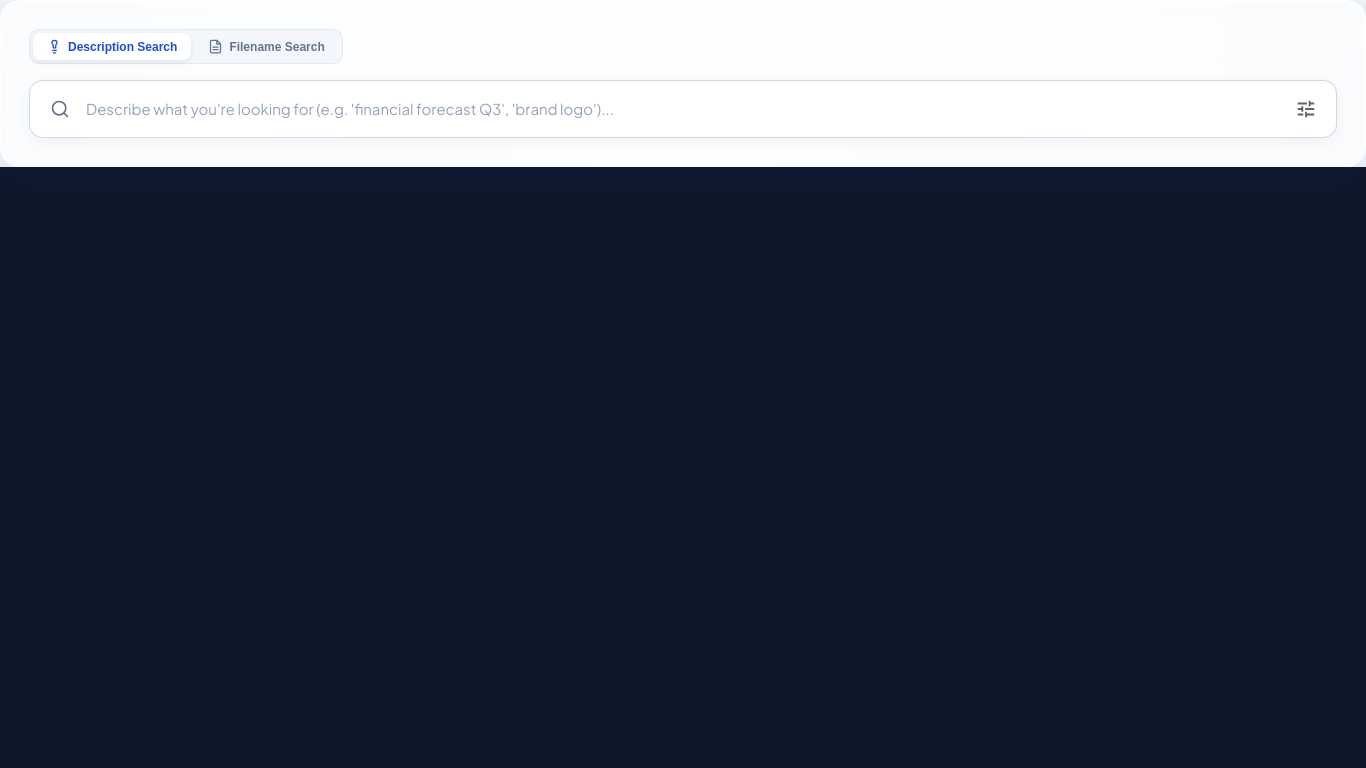
Scenario: renders provider dropdown with Google Drive style select and options
The width and height of the screenshot is (1366, 768).
Click the button named "Tag filters" at (1306, 109), box left=1286, top=89, right=1326, bottom=129
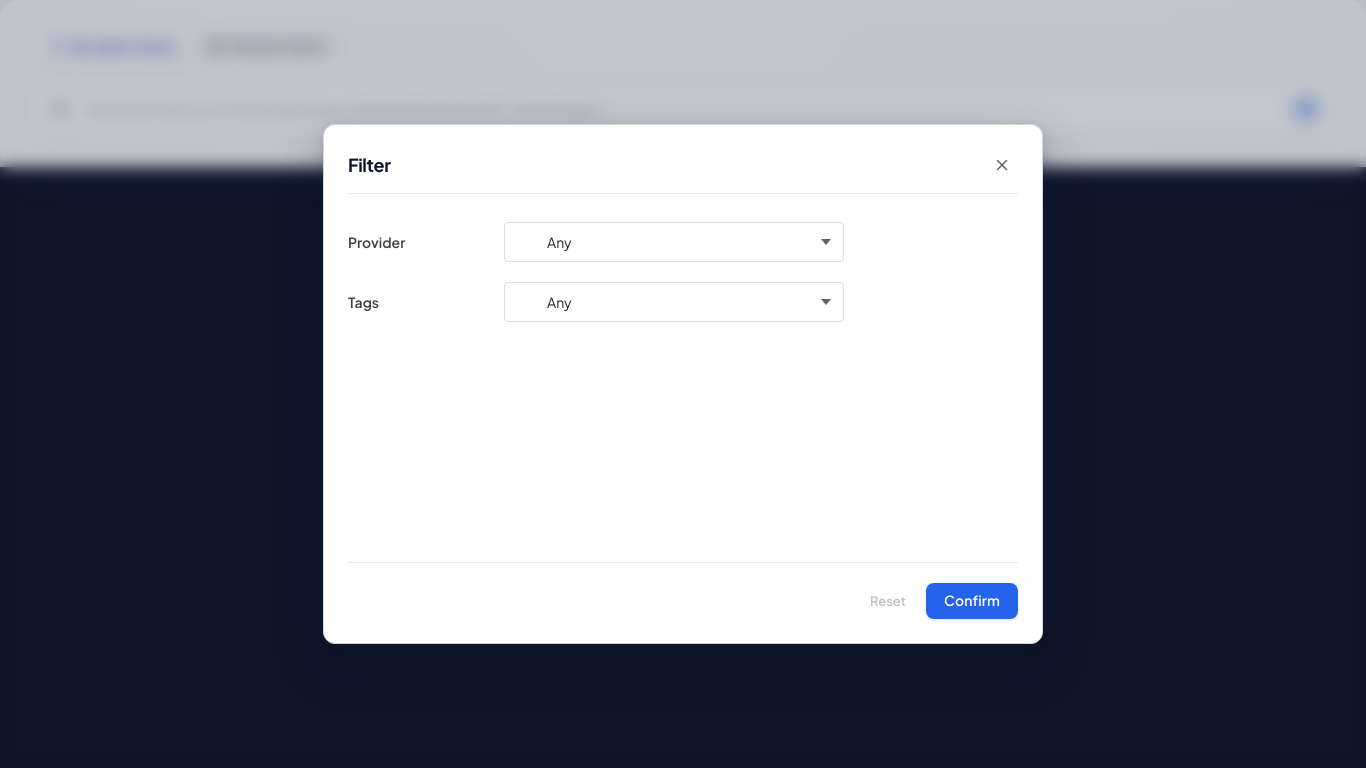
Now the button named "Provider" reads "Any"
Open dropdown
Click the button named "Provider" at (559, 242), box left=504, top=222, right=844, bottom=262
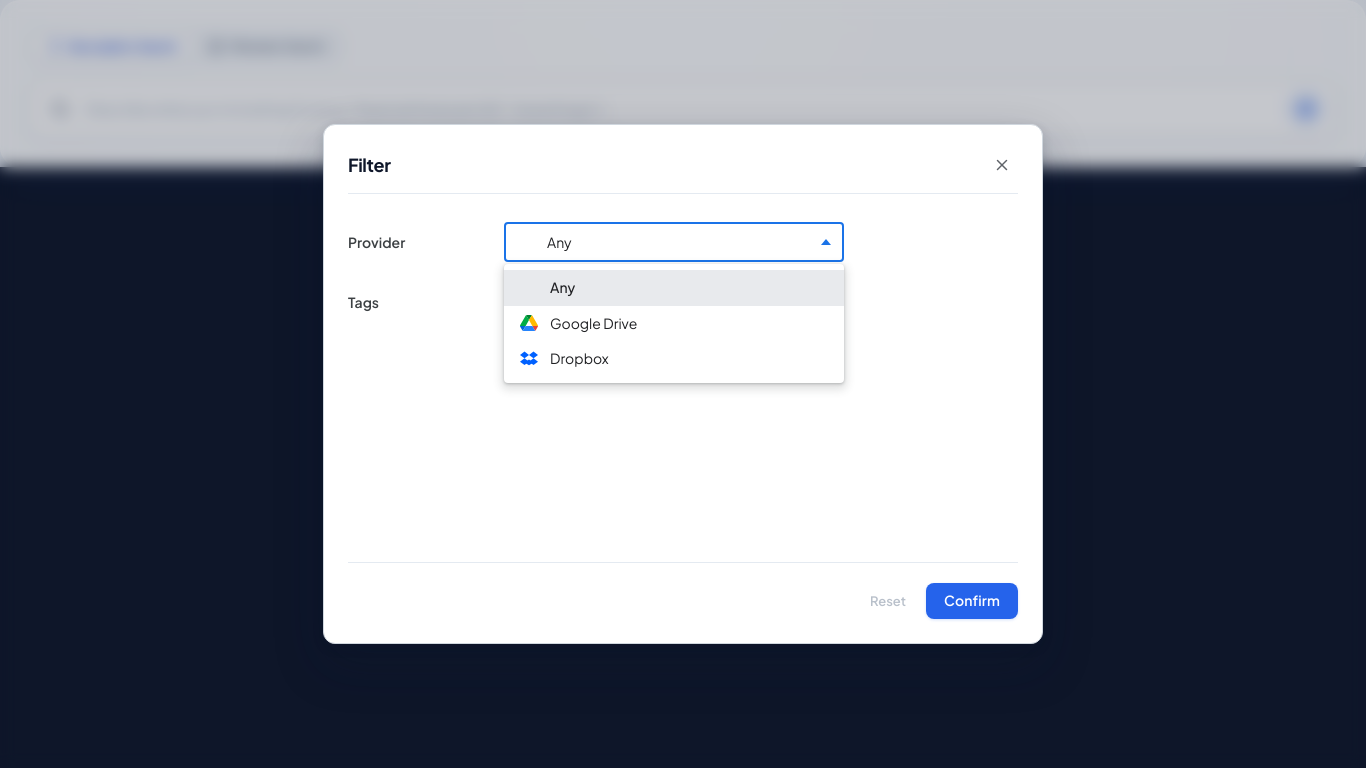
Now the list named "Provider" is shown, box left=504, top=264, right=844, bottom=383
Now the option "Any" is shown, box left=504, top=270, right=844, bottom=306
Now the option "Google Drive" is shown, box left=504, top=306, right=844, bottom=341
Select Dropbox
Click the option "Dropbox" at (579, 358), box left=504, top=341, right=844, bottom=377
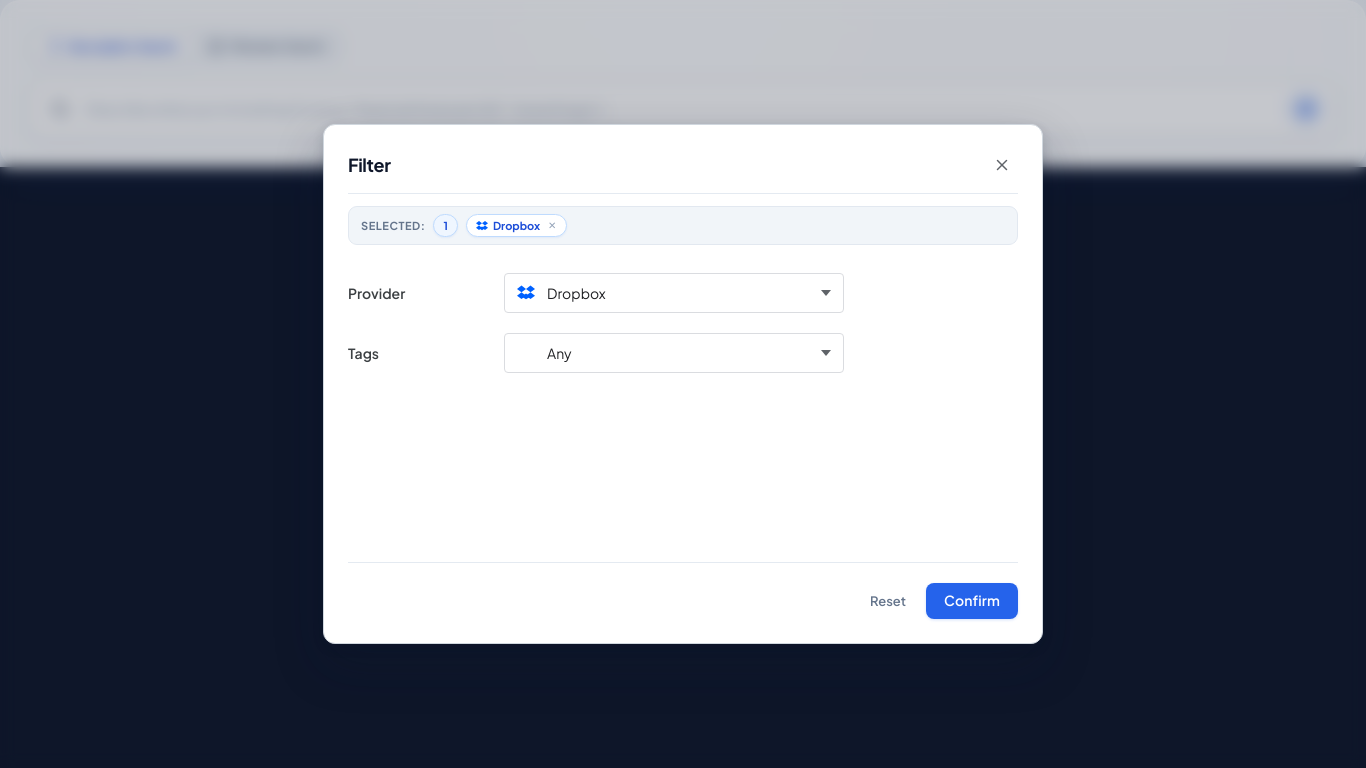
Now the button named "Provider" reads "Dropbox", box left=504, top=273, right=844, bottom=313
